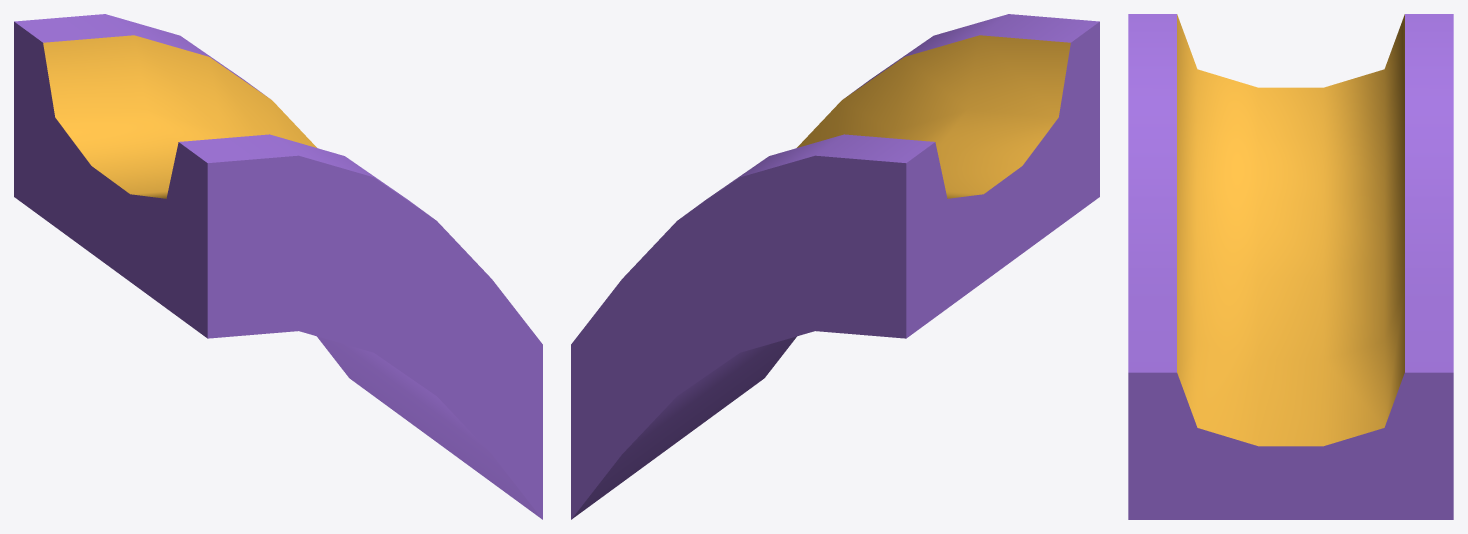
File: ramp-end-d-col.glb
The picture shows the model from 3 angles, left to right: view 1: azimuth 30°, elevation 25°; view 2: azimuth 150°, elevation 25°; view 3: azimuth 270°, elevation 25°; orthographic projection. The views are drawn at different scales.
Parts seen in each view (by area): view 1: ramp-end-d-col; view 2: ramp-end-d-col; view 3: ramp-end-d-col.
Part boxes in pixels (box(x1,y1,x2,y2)): ramp-end-d-col: box(14, 14, 542, 519); ramp-end-d-col: box(571, 14, 1099, 519); ramp-end-d-col: box(1128, 14, 1453, 519).
Size of the model in its own units: 1 by 1.25 by 1.
Materials: 1 (1 with a texture image).
